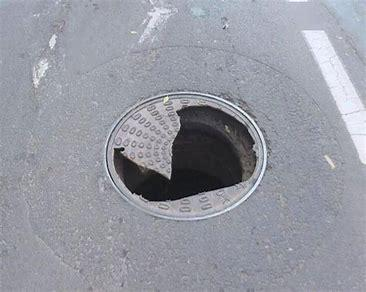wellcover: (101, 88, 266, 223)
